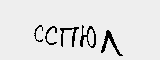Л: (98, 29, 124, 59)
П: (57, 24, 80, 51)
С: (32, 23, 47, 48), (44, 24, 59, 49)
Ю: (76, 22, 97, 52)
